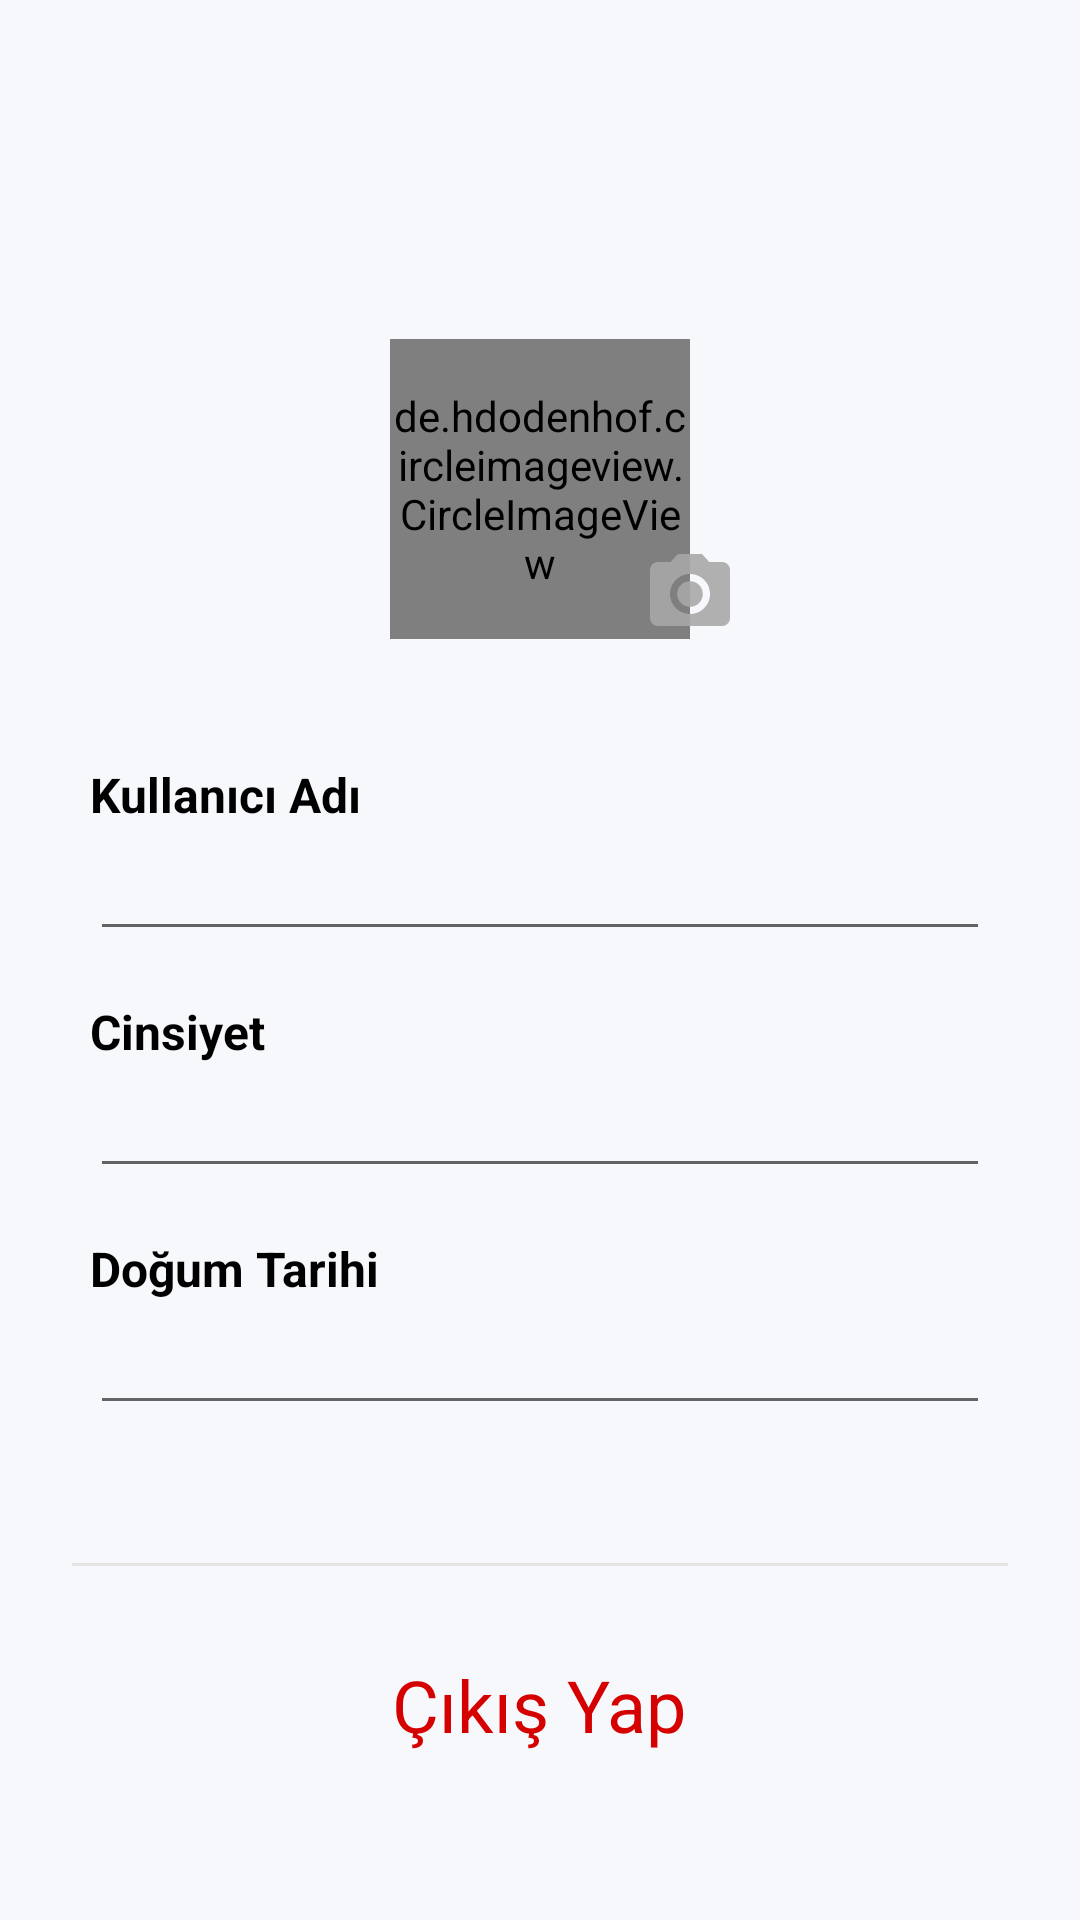

Named icons in this screenshot (1080px x 1920px) and their centers, [x,y]:
camera: [686,592]
